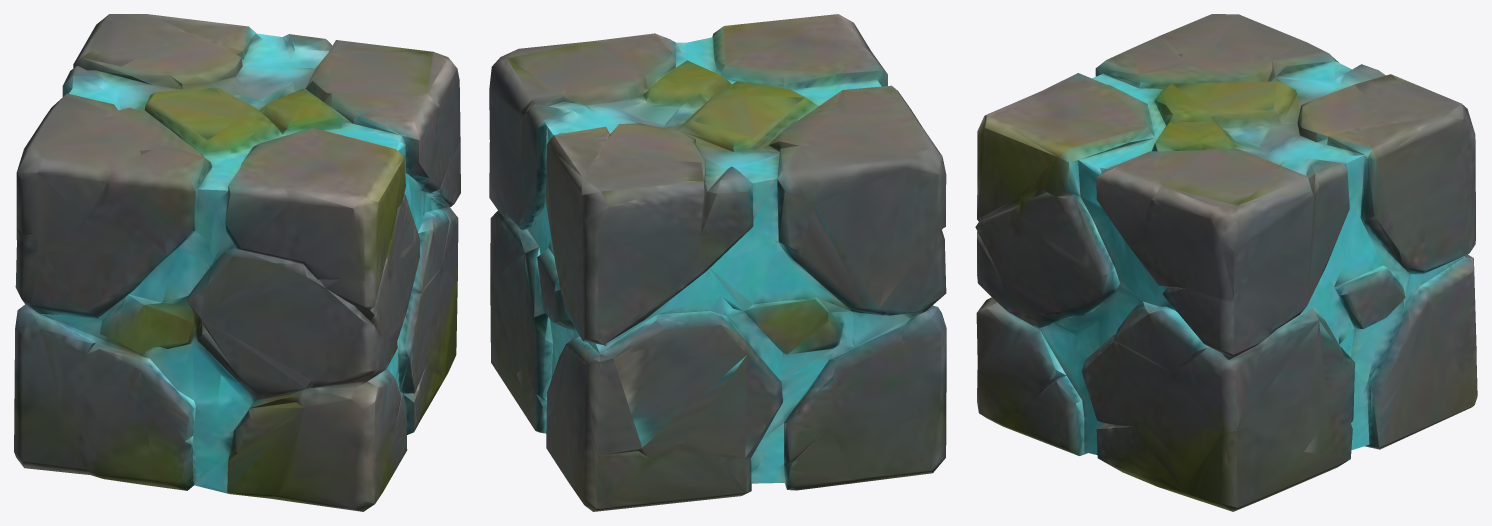
Rendered from bloque_enlace_1500.glb.
The picture shows the model from 3 angles, left to right: view 1: azimuth 30°, elevation 25°; view 2: azimuth 150°, elevation 25°; view 3: azimuth 270°, elevation 25°; orthographic projection. The views are drawn at different scales.
Visible parts, largest first — view 1: bloque_enlace_malla; view 2: bloque_enlace_malla; view 3: bloque_enlace_malla.
Part boxes in pixels (x1,y1,x2,y2): bloque_enlace_malla: (14, 14, 460, 511); bloque_enlace_malla: (489, 14, 946, 511); bloque_enlace_malla: (975, 14, 1477, 511).
Size of the model in its own units: 0.3187 by 0.2205 by 0.3231.
Materials: 1 (1 with a texture image).
